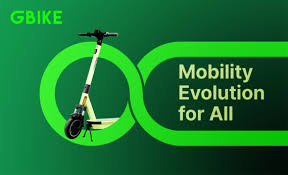kick_handler: (79, 30, 117, 44)
kick_neck: (82, 47, 99, 104)
kick_wheel: (63, 116, 83, 139)
